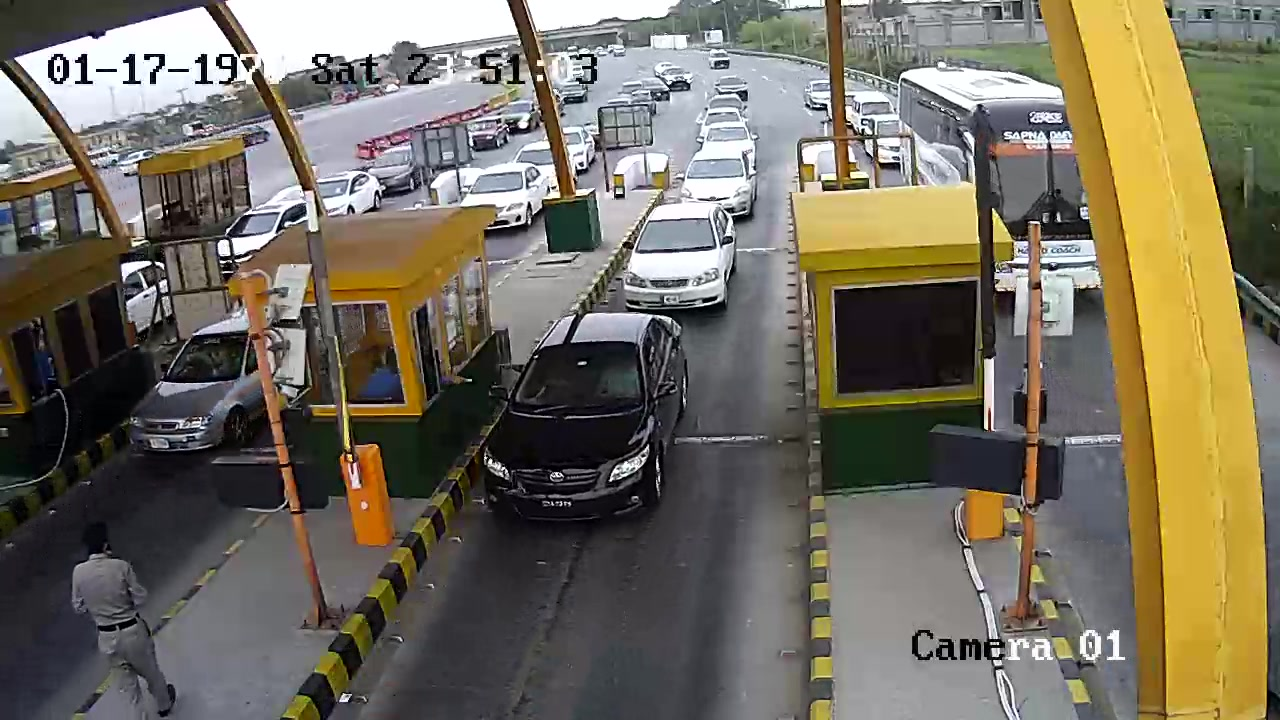F1: (476, 306, 725, 546)
